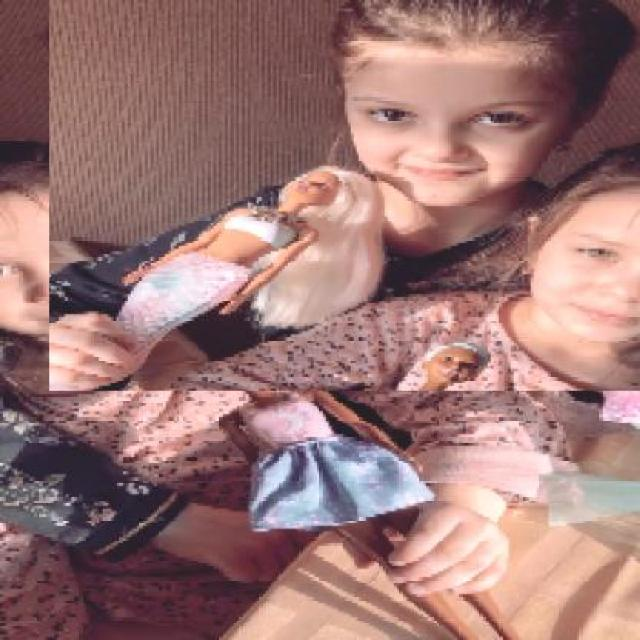child: (2, 134, 575, 600), (48, 0, 640, 392)
